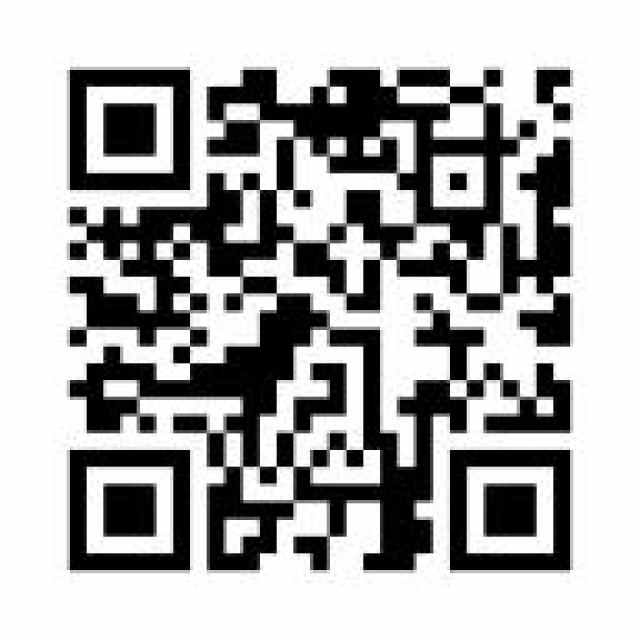QR_CODE: (56, 55, 586, 583)
